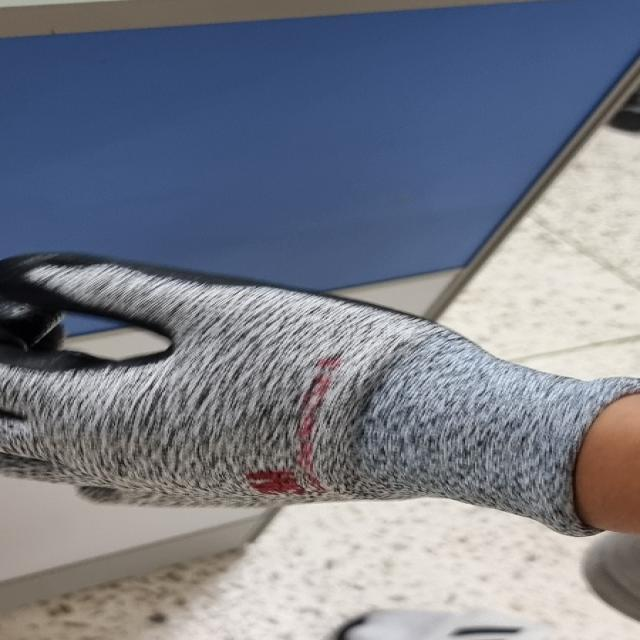Gloves: (0, 245, 640, 538)
